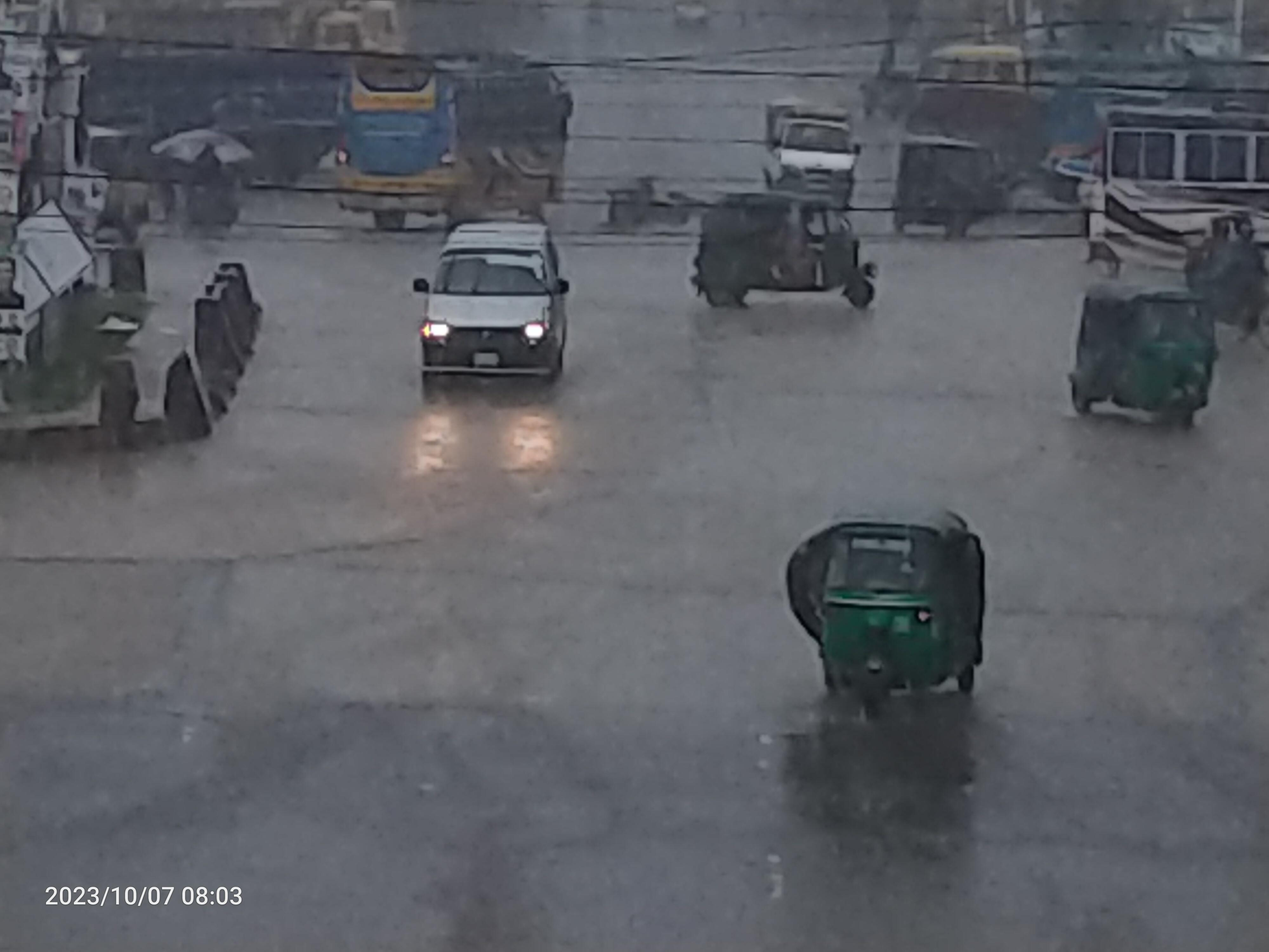Bus: (307, 33, 579, 231), (1073, 87, 1269, 284)
Car: (398, 201, 585, 417), (751, 81, 878, 225)
Truck: (57, 29, 346, 196)
